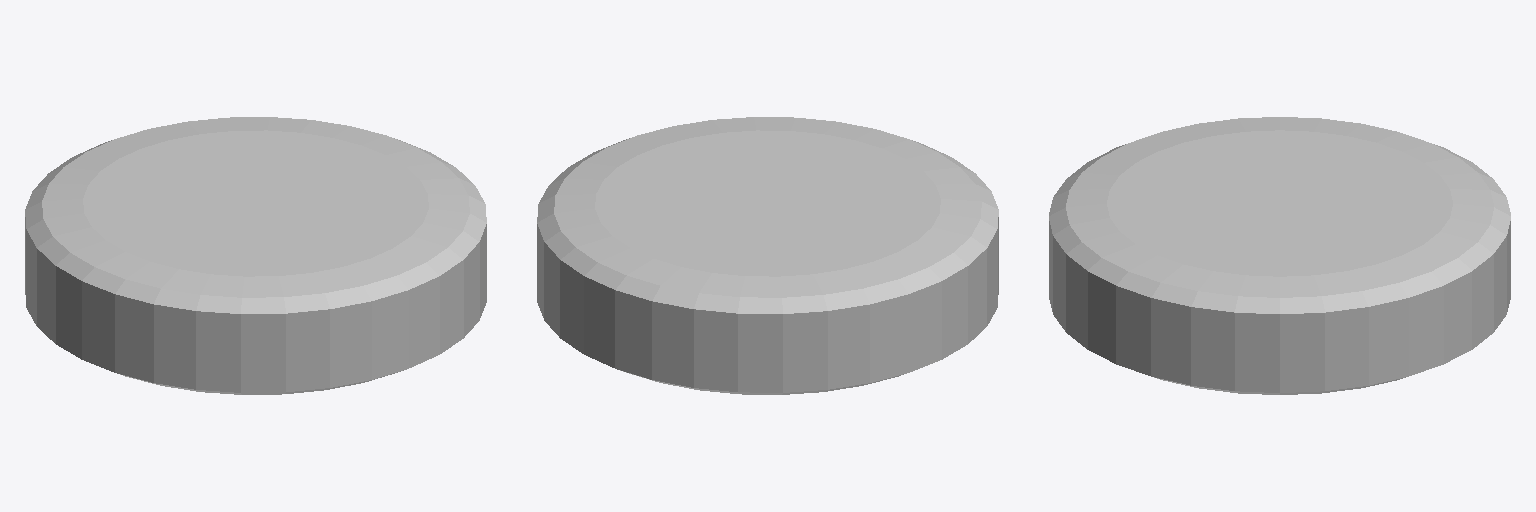
Rendered from flat-cyl.obj.
The picture shows the model from 3 angles: view 1: azimuth 30°, elevation 25°; view 2: azimuth 150°, elevation 25°; view 3: azimuth 270°, elevation 25°; orthographic projection.
Parts seen in each view (by area): view 1: Cylinder; view 2: Cylinder; view 3: Cylinder.
Boxes of the visible parts, <box> form: Cylinder: <box>25,117,486,394</box>; Cylinder: <box>537,117,998,394</box>; Cylinder: <box>1049,117,1510,394</box>.
Bounding box in the file's own units: 2 × 0.5 × 2.